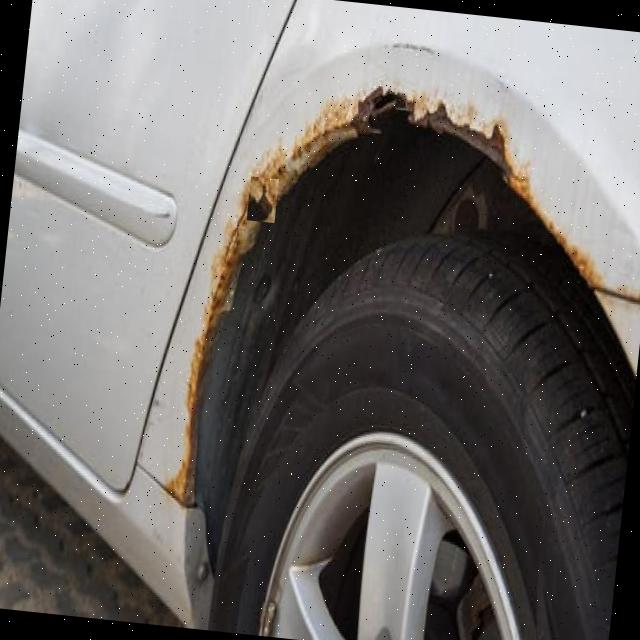Corrosion: (159, 64, 640, 552)
